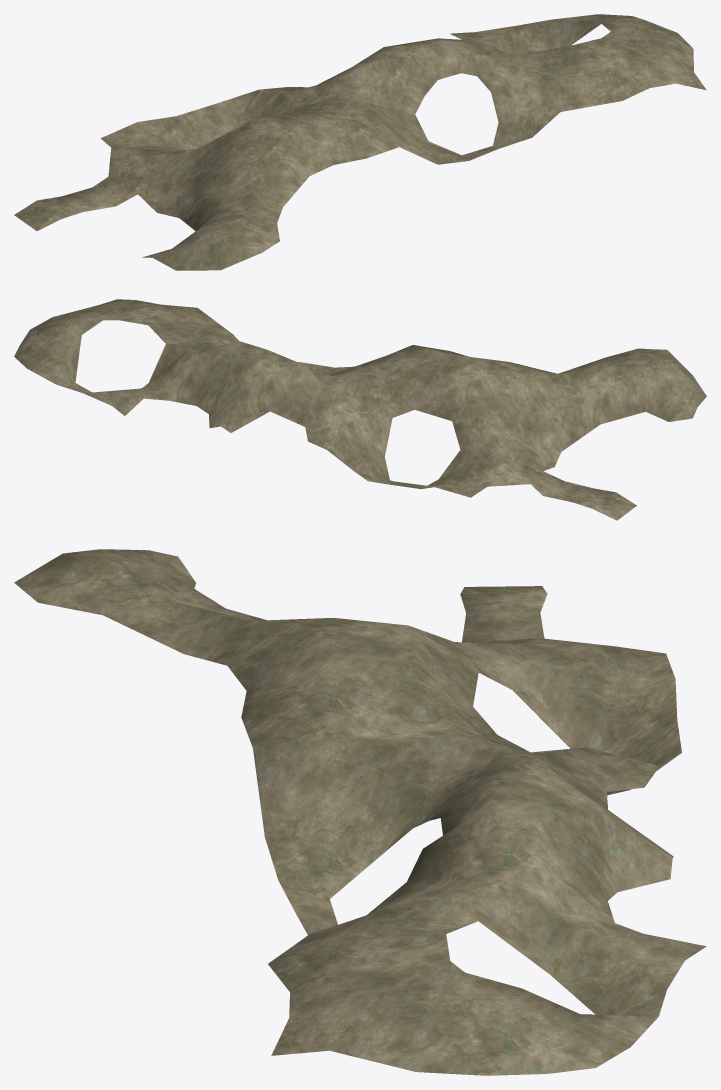
File: EKH_GROTTO_PS_GR_OBJECT61.fbx
3 renders of one model, top to bottom at view 1: azimuth 30°, elevation 25°; view 2: azimuth 150°, elevation 25°; view 3: azimuth 270°, elevation 25°, orthographic. The views are drawn at different scales.
Parts seen in each view (by area): view 1: EKH_GROTTO_PS_GR_OBJECT61; view 2: EKH_GROTTO_PS_GR_OBJECT61; view 3: EKH_GROTTO_PS_GR_OBJECT61.
Boxes of the visible parts, x1,y1,x2,y2 form: EKH_GROTTO_PS_GR_OBJECT61: [14, 14, 706, 270]; EKH_GROTTO_PS_GR_OBJECT61: [14, 299, 706, 520]; EKH_GROTTO_PS_GR_OBJECT61: [14, 549, 706, 1075].
Size of the model in its own units: 260891 by 34502 by 138406.
Materials: 1 (1 with a texture image).
